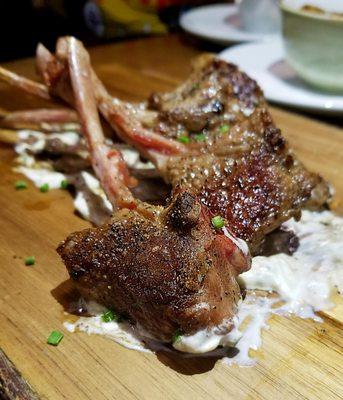pizza: (278, 0, 343, 93)
